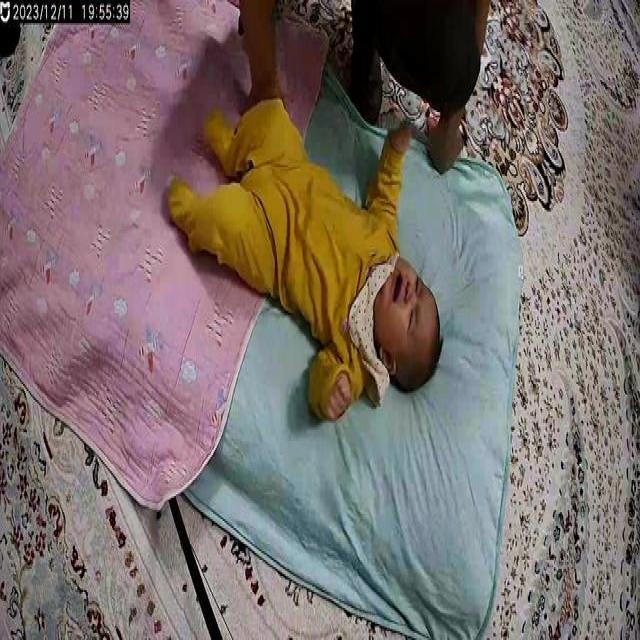baby: (167, 106, 447, 438)
